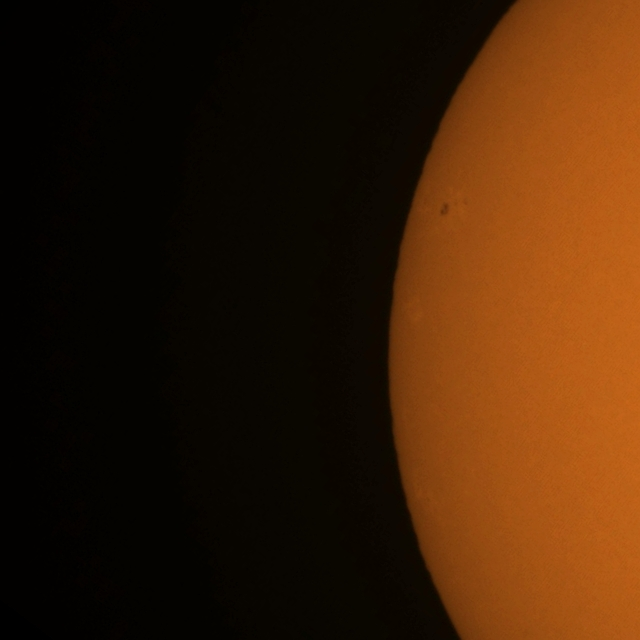sunspot: (438, 201, 450, 217)
